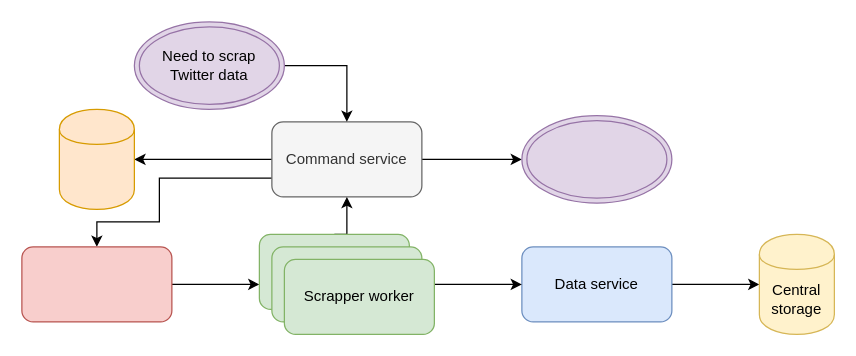
Some shapes in this 856 by 356 pixel diagram are drawn without their labels. Here are the shapes that lost their labels. From the top down, the box of each, then its label:
(58, 108, 134, 209): Task database
(521, 114, 672, 203): Webhook after job finish
(21, 246, 172, 322): RabbitMQ
